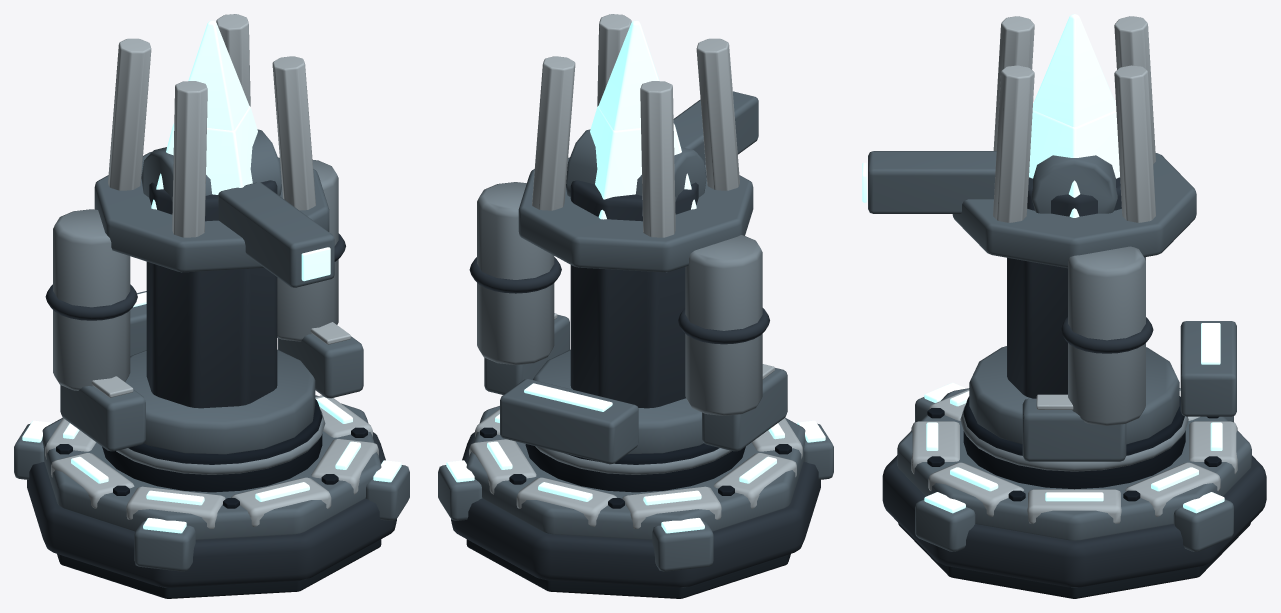
The model's file is frost_spire.fbx.
3 views of the same model, side by side, from view 1: azimuth 30°, elevation 25°; view 2: azimuth 150°, elevation 25°; view 3: azimuth 270°, elevation 25° (orthographic).
Parts seen in each view (by area): view 1: Yaw_Geometry, Base_Geometry, Recoil_Geometry, Tier3_Cooling_Geometry, Apex_sector_0_Geometry, Apex_sector_3_Geometry, Apex_sector_1_Geometry, Tier2_Capacitor_Geometry, Tier2_Light_01_Geometry; view 2: Yaw_Geometry, Base_Geometry, Recoil_Geometry, Tier2_Capacitor_Geometry, Tier3_Cooling_Geometry, Apex_sector_1_Geometry, Apex_sector_2_Geometry, Apex_sector_0_Geometry, Tier3_Light_03_Geometry; view 3: Base_Geometry, Recoil_Geometry, Yaw_Geometry, Tier3_Cooling_Geometry, Tier2_Capacitor_Geometry, Apex_sector_3_Geometry, Apex_sector_2_Geometry, Apex_sector_0_Geometry, Tier3_Light_06_Geometry.
Boxes of the visible parts, x1=… form: Yaw_Geometry: x1=45, y1=129, x2=345, y2=454; Base_Geometry: x1=27, y1=395, x2=396, y2=598; Recoil_Geometry: x1=94, y1=14, x2=334, y2=287; Tier3_Cooling_Geometry: x1=60, y1=322, x2=363, y2=451; Apex_sector_0_Geometry: x1=134, y1=518, x2=195, y2=571; Apex_sector_3_Geometry: x1=365, y1=460, x2=409, y2=520; Apex_sector_1_Geometry: x1=14, y1=420, x2=50, y2=479; Tier2_Capacitor_Geometry: x1=130, y1=291, x2=146, y2=355; Tier2_Light_01_Geometry: x1=146, y1=490, x2=204, y2=505; Yaw_Geometry: x1=469, y1=129, x2=769, y2=454; Base_Geometry: x1=451, y1=406, x2=820, y2=598; Recoil_Geometry: x1=518, y1=14, x2=758, y2=272; Tier2_Capacitor_Geometry: x1=500, y1=379, x2=638, y2=464; Tier3_Cooling_Geometry: x1=484, y1=313, x2=787, y2=451; Apex_sector_1_Geometry: x1=652, y1=518, x2=713, y2=571; Apex_sector_2_Geometry: x1=438, y1=460, x2=482, y2=520; Apex_sector_0_Geometry: x1=797, y1=420, x2=833, y2=479; Tier3_Light_03_Geometry: x1=643, y1=490, x2=701, y2=505; Base_Geometry: x1=882, y1=388, x2=1266, y2=598; Recoil_Geometry: x1=862, y1=14, x2=1196, y2=268; Yaw_Geometry: x1=969, y1=155, x2=1179, y2=444; Tier3_Cooling_Geometry: x1=1022, y1=394, x2=1126, y2=461; Tier2_Capacitor_Geometry: x1=1180, y1=321, x2=1236, y2=416; Apex_sector_3_Geometry: x1=915, y1=492, x2=975, y2=551; Apex_sector_2_Geometry: x1=1173, y1=492, x2=1233, y2=551; Apex_sector_0_Geometry: x1=915, y1=382, x2=965, y2=422; Tier3_Light_06_Geometry: x1=1045, y1=492, x2=1103, y2=501.
Size of the model in its own units: 1.78 by 2.61 by 1.87.
